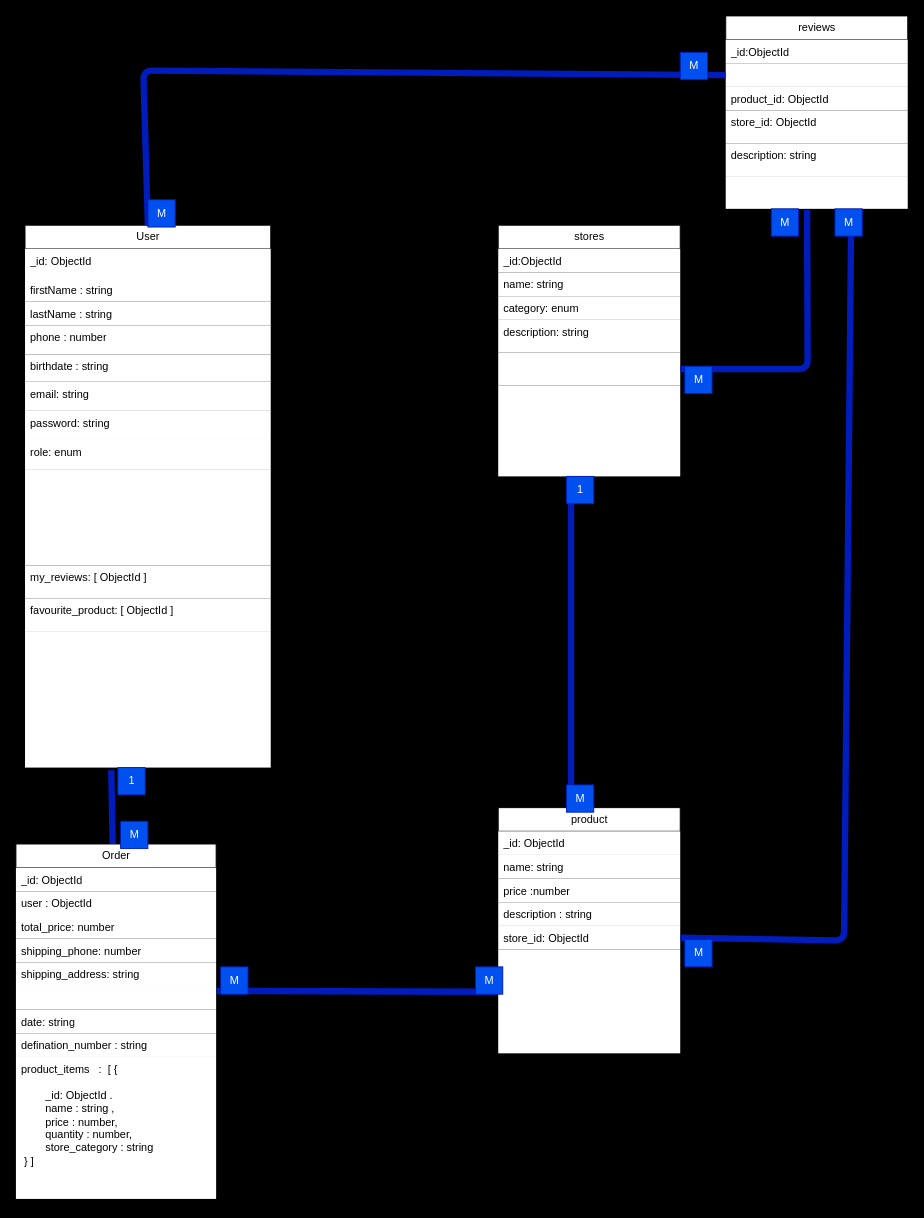
This 924x1218 diagram has some shape labels left out. The shapes that lost their labels are listed below. From the top down, each one's centre as x and y in pixels, then its label:
(x=816, y=74): user_id:[ ObjectId ]
(x=816, y=192): stars: enum
(x=589, y=368): products: [ ObjecId ]
(x=589, y=430): reviews: [ { userId : ObjectId, description : string , starts: enum number }]
(x=147, y=517): address : [ { name: string lat : string lon: string description : string } ]
(x=147, y=699): favourite_store: [ ObjectId ]
(x=115, y=997): items_quantity: number
(x=589, y=1001): reviews:[ { userId: ObjectId. description : string, stars: enum number }]
